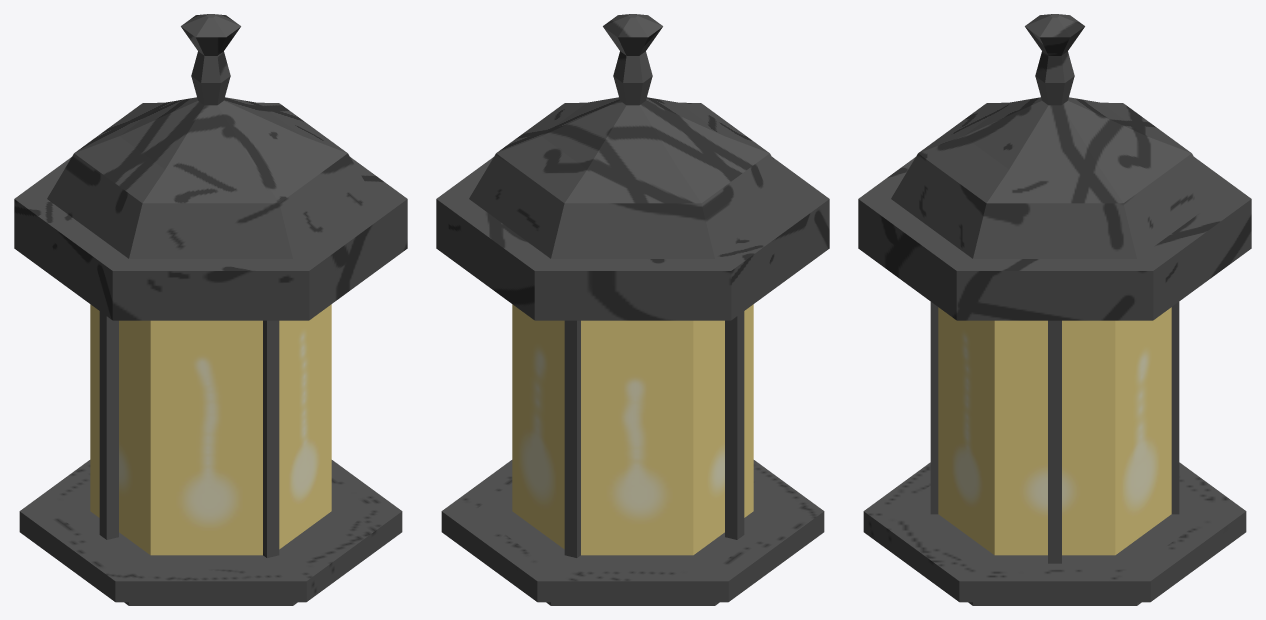
File: lantern.glb
The picture shows the model from 3 angles, left to right: view 1: azimuth 30°, elevation 25°; view 2: azimuth 150°, elevation 25°; view 3: azimuth 270°, elevation 25°; orthographic projection.
Parts seen in each view (by area): view 1: Circle; view 2: Circle; view 3: Circle.
Boxes of the visible parts, x1,y1,x2,y2 form: Circle: (14,14,407,605); Circle: (436,14,829,605); Circle: (858,14,1251,605).
Size of the model in its own units: 0.3777 by 0.6484 by 0.4361.
Materials: 2 (2 with a texture image).
